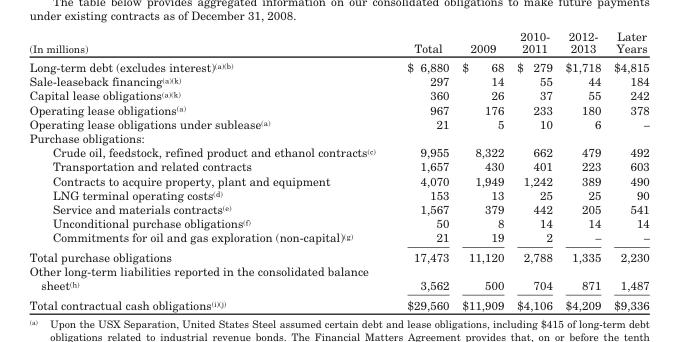table: (28, 28, 648, 311)
table column: (28, 28, 390, 311), (390, 28, 455, 311), (455, 28, 509, 311), (509, 28, 558, 311), (558, 28, 606, 311), (606, 28, 648, 311)
table column header: (28, 28, 648, 56)
table projected row header: (28, 130, 648, 144)
table row: (28, 263, 648, 294), (28, 28, 648, 56), (28, 56, 648, 73), (28, 246, 648, 263), (28, 294, 648, 311), (28, 230, 648, 246), (28, 87, 648, 102), (28, 144, 648, 159), (28, 215, 648, 230), (28, 73, 648, 87), (28, 102, 648, 116), (28, 116, 648, 130), (28, 130, 648, 144), (28, 159, 648, 173), (28, 173, 648, 187), (28, 187, 648, 201), (28, 201, 648, 215)
